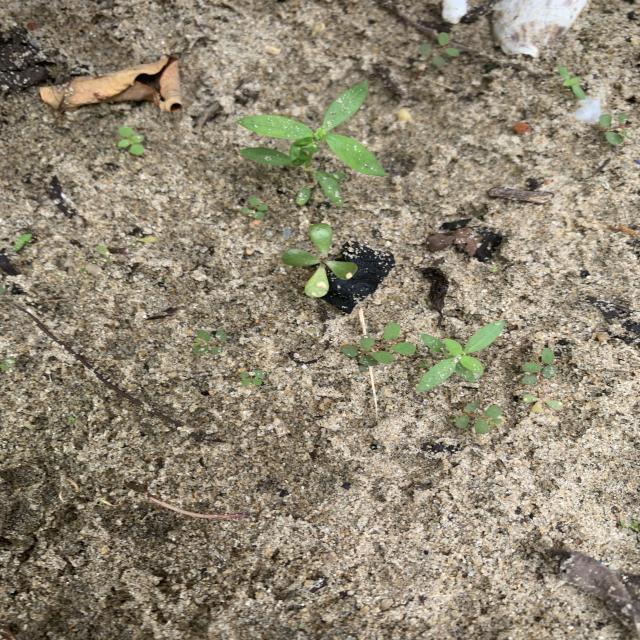weed: (238, 83, 384, 204), (418, 322, 502, 390), (283, 223, 356, 296), (341, 323, 414, 368), (448, 402, 502, 432), (417, 33, 459, 65), (521, 349, 556, 383), (597, 113, 629, 143), (558, 65, 584, 98), (193, 329, 225, 354), (524, 392, 562, 411), (118, 126, 143, 154), (241, 198, 267, 218), (238, 369, 263, 386), (13, 234, 31, 250), (0, 357, 15, 370)
